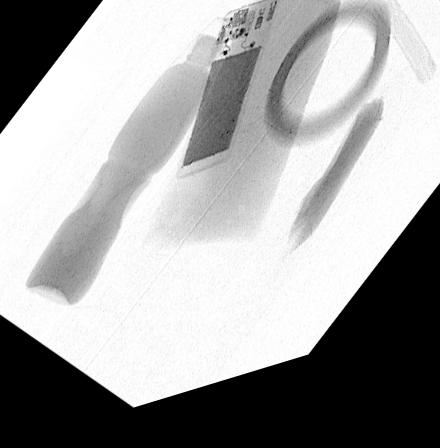Powerbank: (175, 12, 279, 190)
